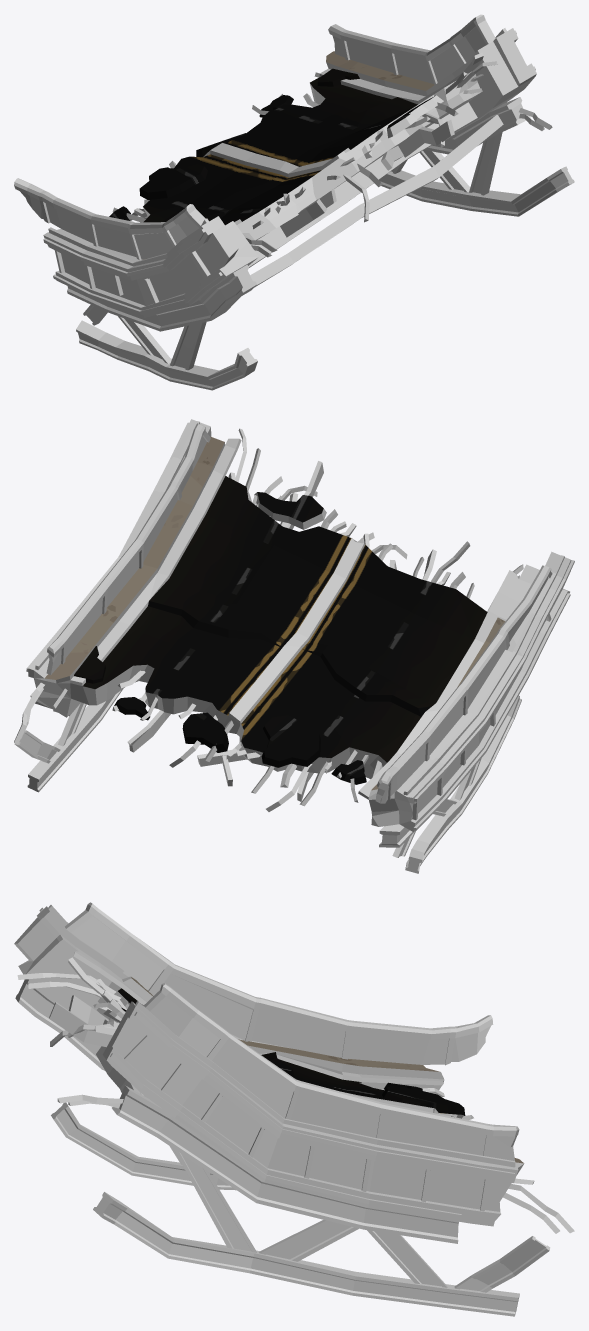
The model's file is SM_Bld_Bridge_Debris_01.fbx.
The picture shows the model from 3 angles, top to bottom: view 1: azimuth 30°, elevation 25°; view 2: azimuth 150°, elevation 25°; view 3: azimuth 270°, elevation 25°; orthographic projection. The views are drawn at different scales.
Visible parts, largest first — view 1: SM_Bld_Bridge_Debris_01; view 2: SM_Bld_Bridge_Debris_01; view 3: SM_Bld_Bridge_Debris_01.
Part boxes in pixels (box(x1,y1,x2,y2)): SM_Bld_Bridge_Debris_01: box(14, 14, 574, 390); SM_Bld_Bridge_Debris_01: box(14, 419, 574, 873); SM_Bld_Bridge_Debris_01: box(14, 902, 574, 1316).
Bounding box in the file's own units: 2223 × 1707 × 2292.
